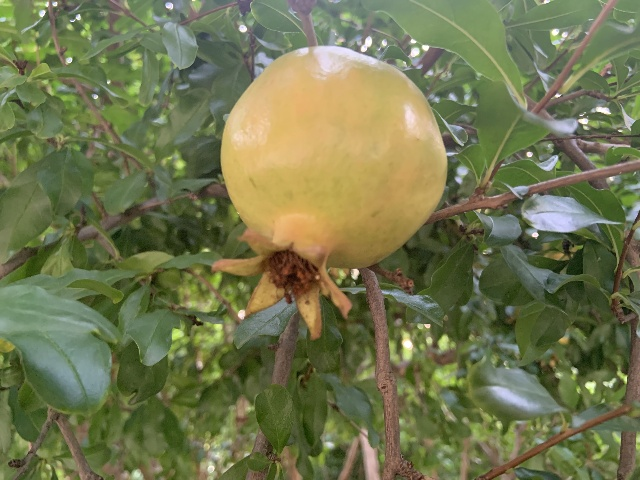mid-growth: (210, 44, 448, 339)
